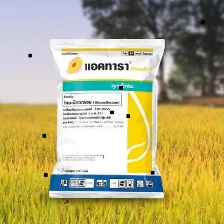insecticide: (44, 36, 166, 201)
